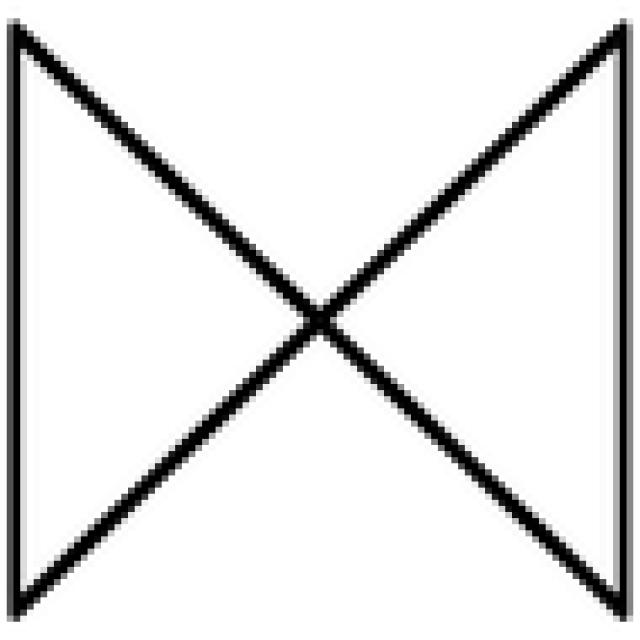Gate valve: (8, 27, 625, 606)
